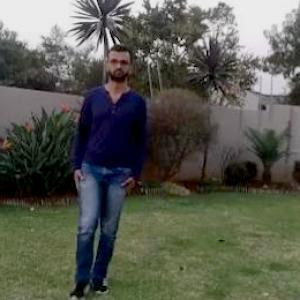follow: (72, 60, 135, 273)
